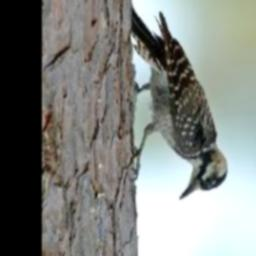Woodpecker: (121, 1, 231, 201)
